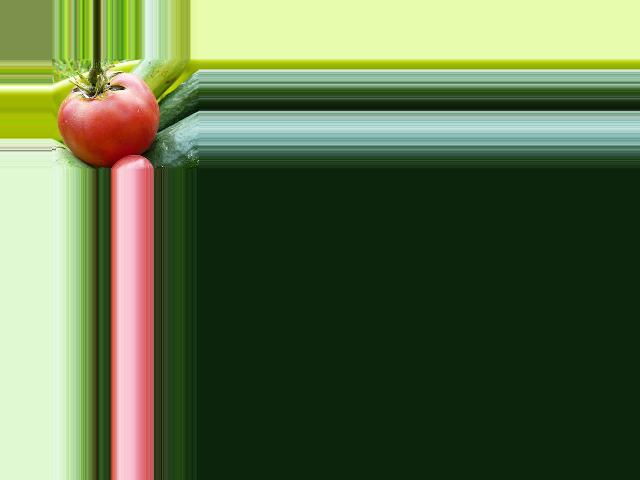tomato: (57, 72, 159, 167)
